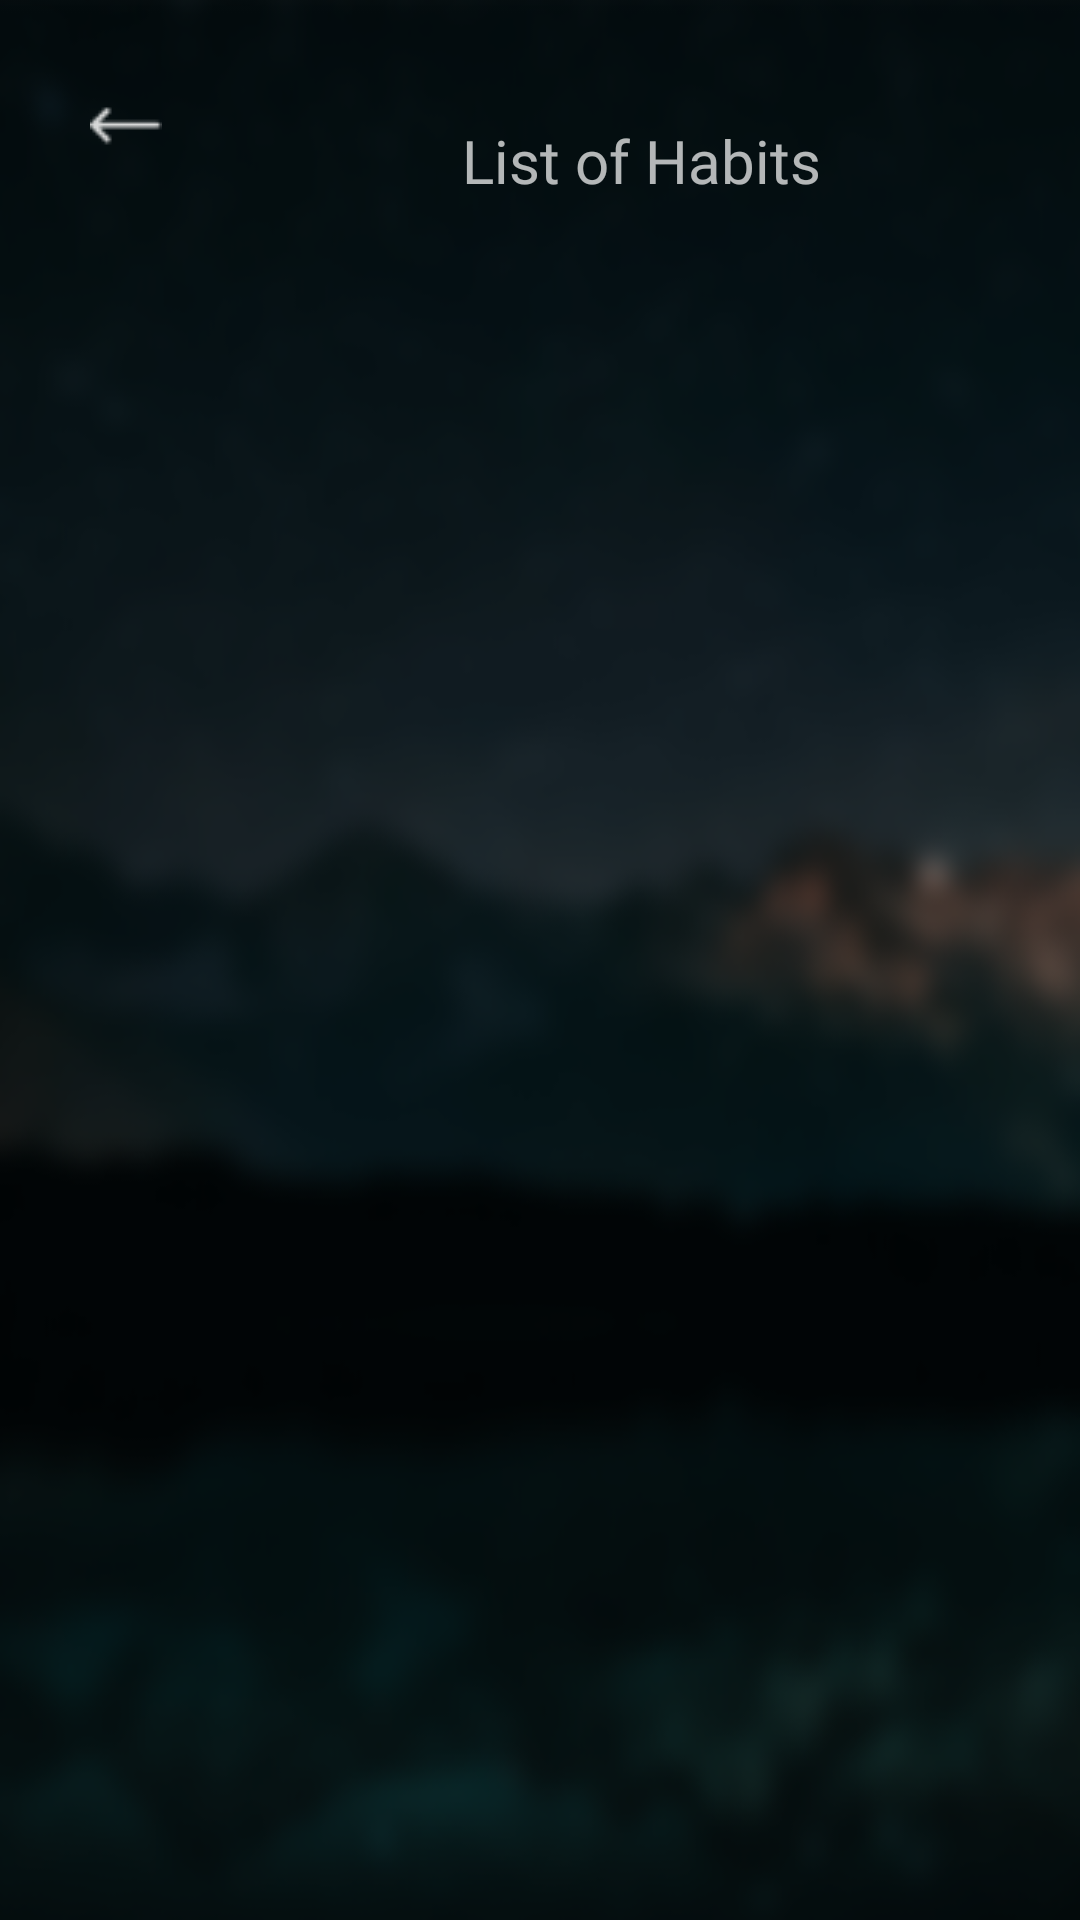

Icons on this 1080px x 1920px Android screen, each with the point to tap as (x,y):
backarrows: (126,126)
